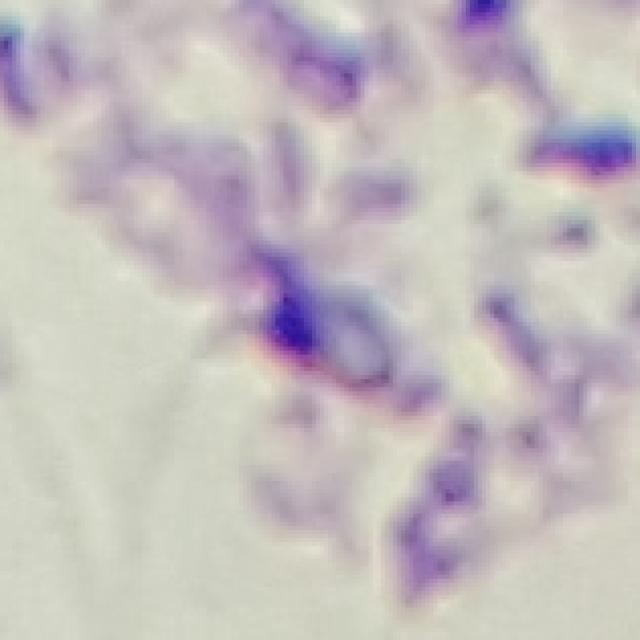non-sperm: (255, 251, 584, 614)
